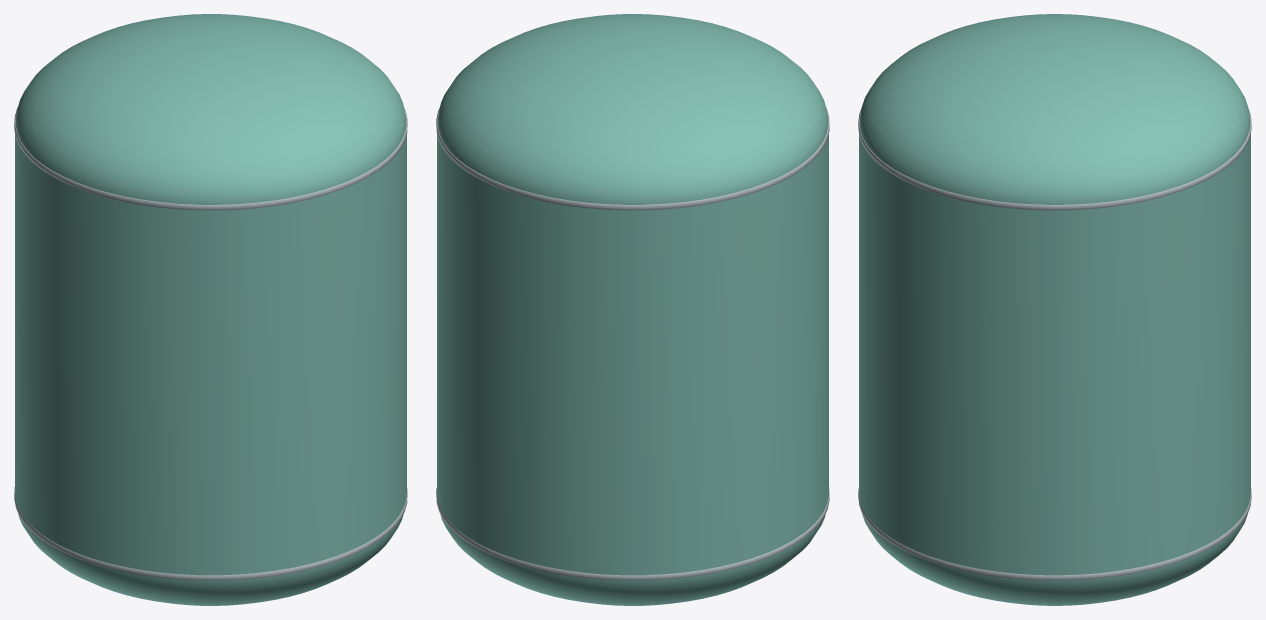
Rendered from s_ii_lh2_vessel.glb.
The picture shows the model from 3 angles, left to right: view 1: azimuth 30°, elevation 25°; view 2: azimuth 150°, elevation 25°; view 3: azimuth 270°, elevation 25°; orthographic projection.
Visible parts, largest first — view 1: s_iicutawaylh2_tankmesh.mesh_Cutaway_•_liquid_hydrogen, s_iicutawaylh2_tankmesh.mesh_Satin_aluminum; view 2: s_iicutawaylh2_tankmesh.mesh_Cutaway_•_liquid_hydrogen, s_iicutawaylh2_tankmesh.mesh_Satin_aluminum; view 3: s_iicutawaylh2_tankmesh.mesh_Cutaway_•_liquid_hydrogen, s_iicutawaylh2_tankmesh.mesh_Satin_aluminum.
Boxes of the visible parts, x1,y1,x2,y2 form: s_iicutawaylh2_tankmesh.mesh_Cutaway_•_liquid_hydrogen: (15, 14, 406, 605); s_iicutawaylh2_tankmesh.mesh_Satin_aluminum: (14, 107, 407, 580); s_iicutawaylh2_tankmesh.mesh_Cutaway_•_liquid_hydrogen: (437, 14, 828, 605); s_iicutawaylh2_tankmesh.mesh_Satin_aluminum: (436, 107, 829, 580); s_iicutawaylh2_tankmesh.mesh_Cutaway_•_liquid_hydrogen: (859, 14, 1250, 605); s_iicutawaylh2_tankmesh.mesh_Satin_aluminum: (858, 107, 1251, 580).
Size of the model in its own units: 9.15 by 13.3 by 9.15.
